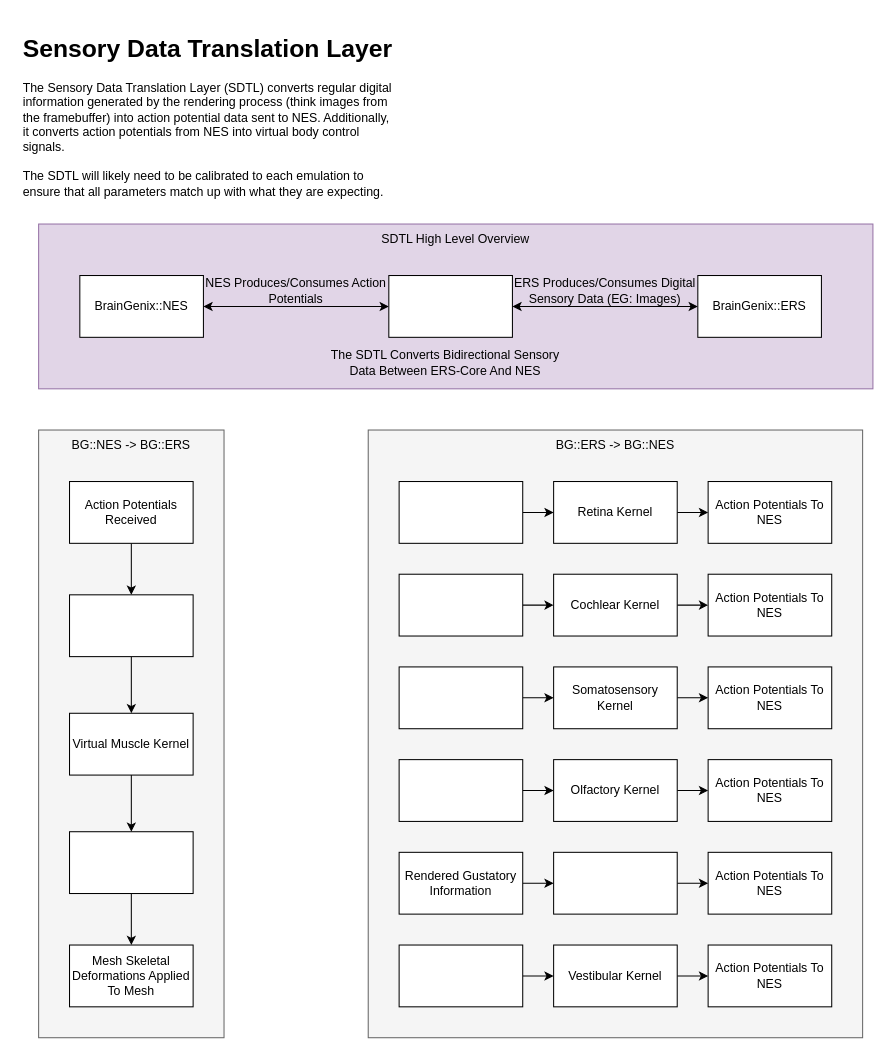
The diagram is 891 pixels wide and 1056 high, and some of its shapes have lost their labels. Here are the shapes that lost their labels. From the top down, the centre of each, then its label:
[450,305]: SDTL
[460,511]: Rendered Visual Source Information
[460,604]: Rendered Auditory Source Information
[130,625]: APs Split Out To Virtual Muscle Kernels
[460,697]: Rendered Somatosensory Source Information
[460,790]: Rendered Olfactory Source Information
[130,862]: Virtual Skeleton Simulation
[615,882]: Gustatory Kernel
[460,975]: Rendered Vestibular Information
